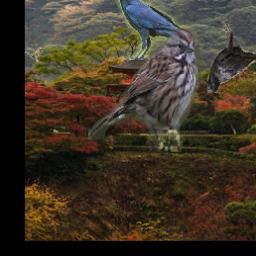Crow: (106, 0, 196, 60), (206, 20, 256, 94)
Sparrow: (87, 28, 201, 152), (25, 46, 45, 62)
